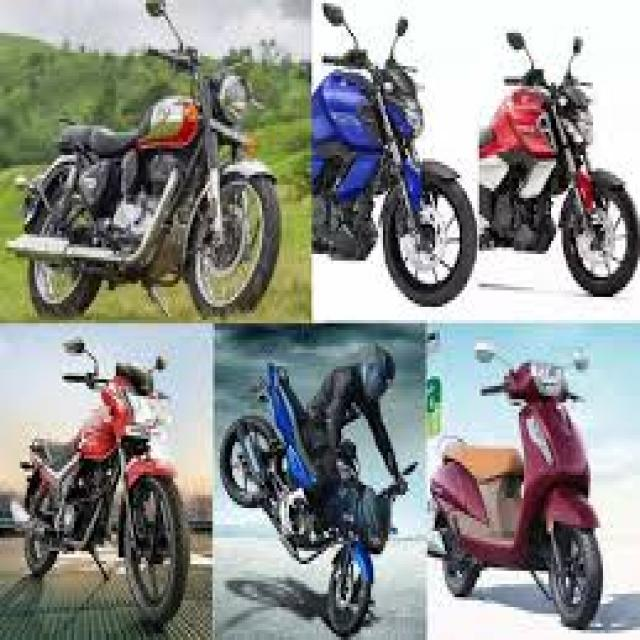Bike: (17, 0, 280, 316), (17, 332, 204, 628), (227, 349, 392, 640)
Scooty: (427, 317, 624, 624)
